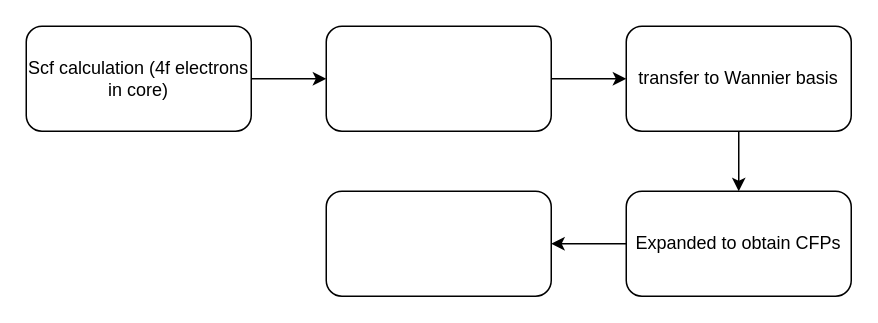
This 878x323 diagram has some shape labels left out. Here are the shapes that lost their labels. From the top down, the box of each, then its label:
(325, 25, 551, 131): 4f electrons treated as valence state
(325, 190, 551, 296): Calculate MAE via quanty
